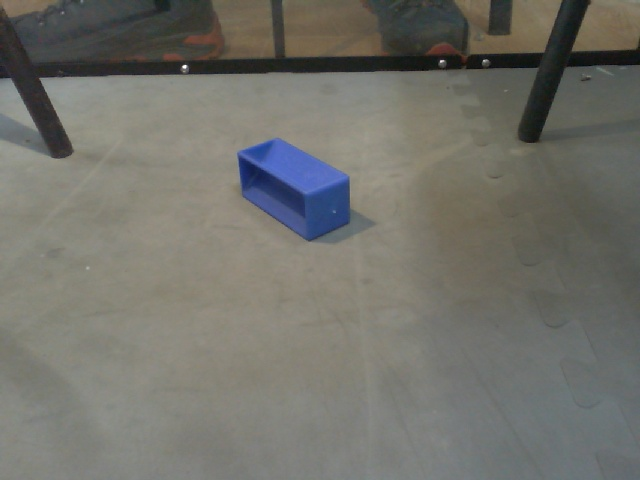BlueSample: (237, 136, 354, 243)
